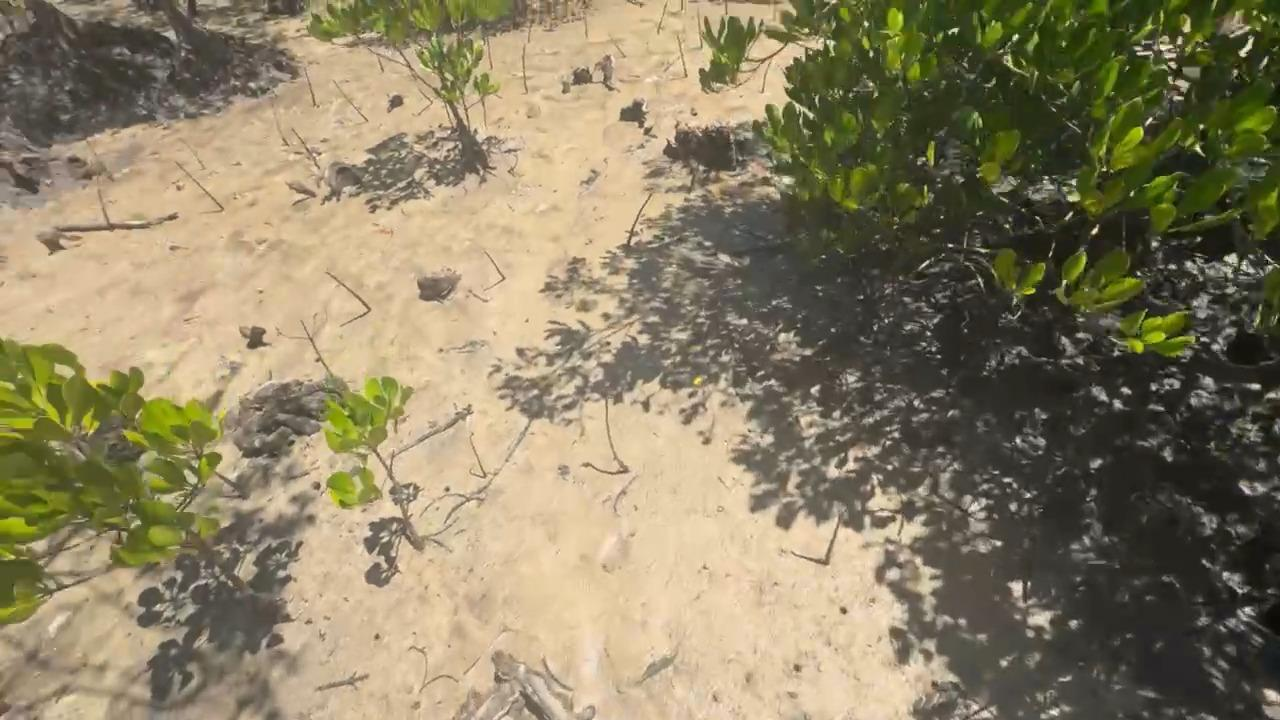Tree: (325, 375, 425, 550), (175, 161, 226, 211), (324, 269, 372, 314), (605, 387, 630, 472), (300, 319, 332, 375), (332, 78, 369, 122), (628, 193, 654, 243), (87, 139, 115, 183), (291, 127, 319, 170), (825, 511, 845, 566), (271, 95, 290, 146), (468, 432, 488, 478), (179, 137, 207, 169), (483, 249, 507, 280), (97, 188, 113, 231), (303, 66, 317, 107), (676, 36, 689, 77), (688, 159, 702, 193), (608, 33, 626, 58), (761, 56, 772, 93), (658, 1, 669, 35), (527, 9, 536, 43), (486, 30, 494, 68), (522, 44, 527, 93), (418, 89, 433, 104), (697, 7, 702, 48), (583, 4, 588, 39), (376, 54, 384, 72), (724, 0, 729, 17), (680, 0, 684, 11)
